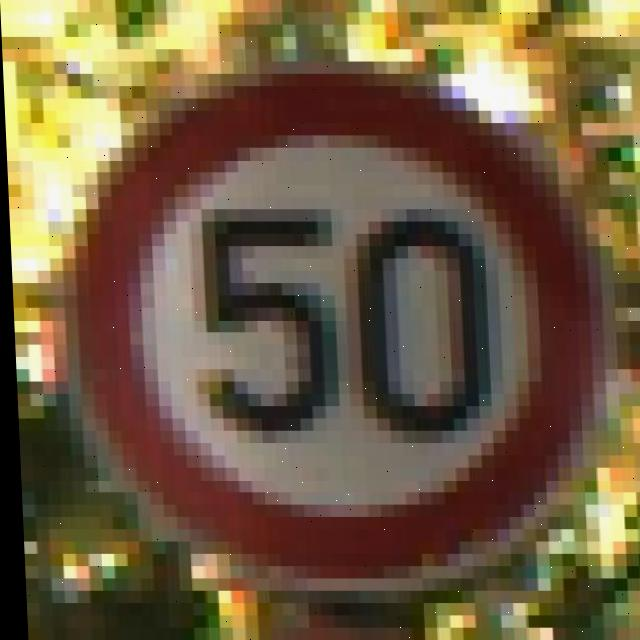Speed limit 50: (74, 73, 603, 575)
